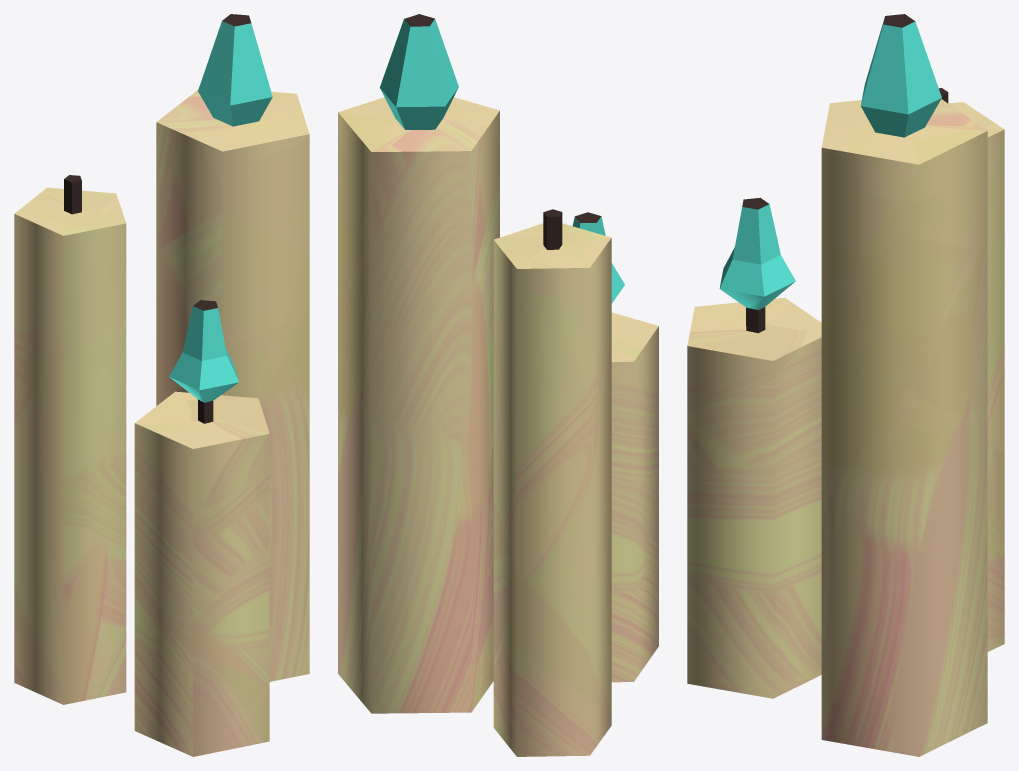
File: 3candles.fbx
The picture shows the model from 3 angles, left to right: view 1: azimuth 30°, elevation 25°; view 2: azimuth 150°, elevation 25°; view 3: azimuth 270°, elevation 25°; orthographic projection. The views are drawn at different scales.
Parts seen in each view (by area): view 1: Cylinder007; view 2: Cylinder007; view 3: Cylinder007.
Part boxes in pixels (x1,y1,x2,y2): Cylinder007: [14, 14, 309, 756]; Cylinder007: [338, 14, 658, 756]; Cylinder007: [687, 14, 1004, 756].
Bounding box in the file's own units: 5.33 × 12.37 × 5.09.
